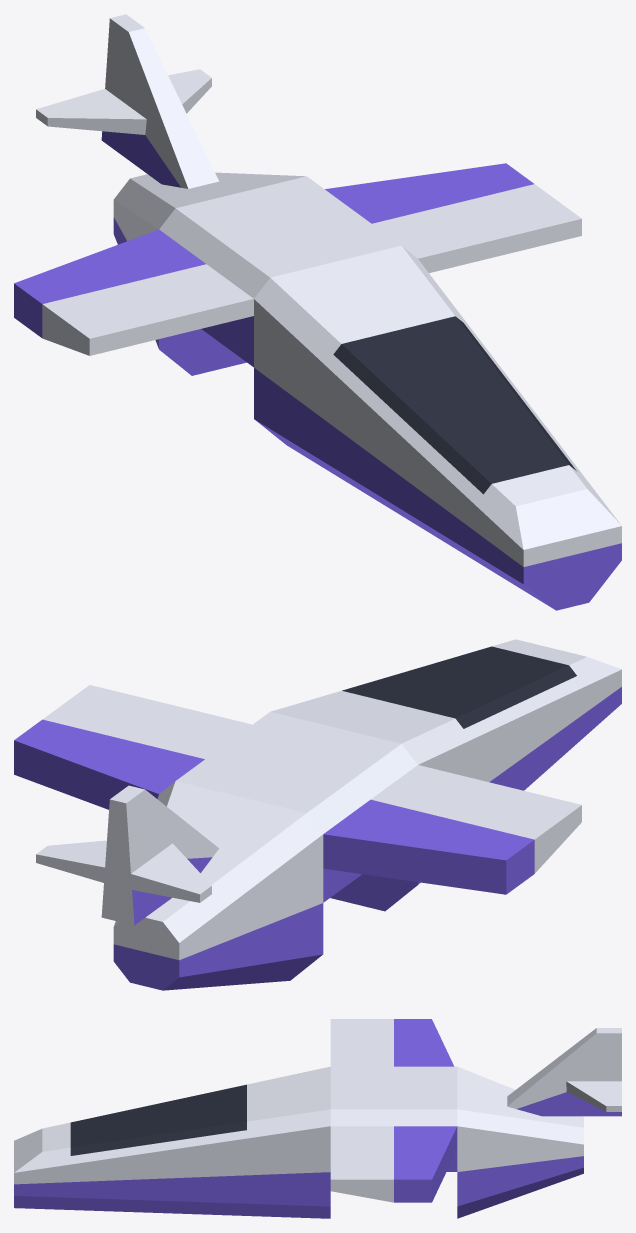
File: Cruiser.fbx
3 views of the same model, one above another, from view 1: azimuth 30°, elevation 25°; view 2: azimuth 150°, elevation 25°; view 3: azimuth 270°, elevation 25° (orthographic). The views are drawn at different scales.
Parts seen in each view (by area): view 1: mergedBlocks; view 2: mergedBlocks; view 3: mergedBlocks.
Boxes of the visible parts, left/top/right/bottom form: mergedBlocks: left=14, top=14, right=621, bottom=610; mergedBlocks: left=14, top=639, right=621, bottom=990; mergedBlocks: left=14, top=1019, right=621, bottom=1218.
Size of the model in its own units: 30 by 15 by 48.
